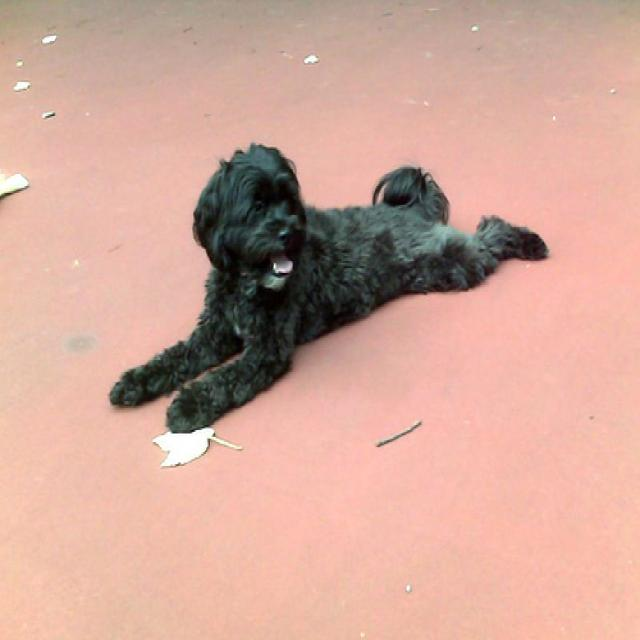dog-havanese: (93, 131, 554, 440)
